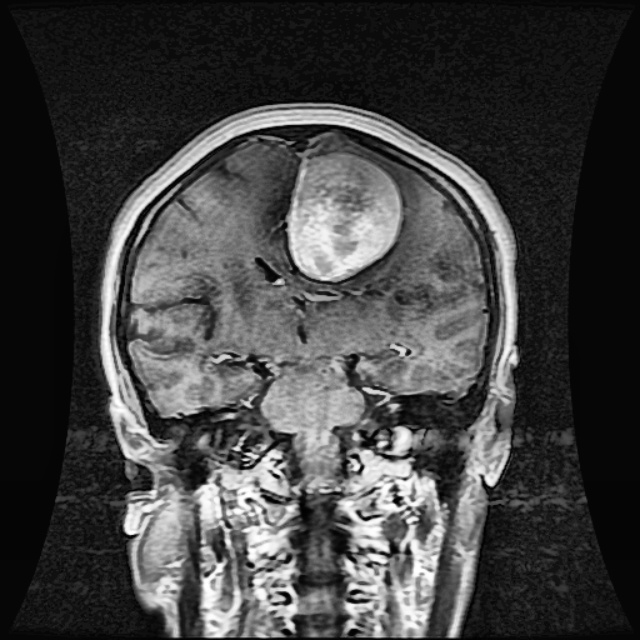Glioma: (288, 153, 402, 282)
